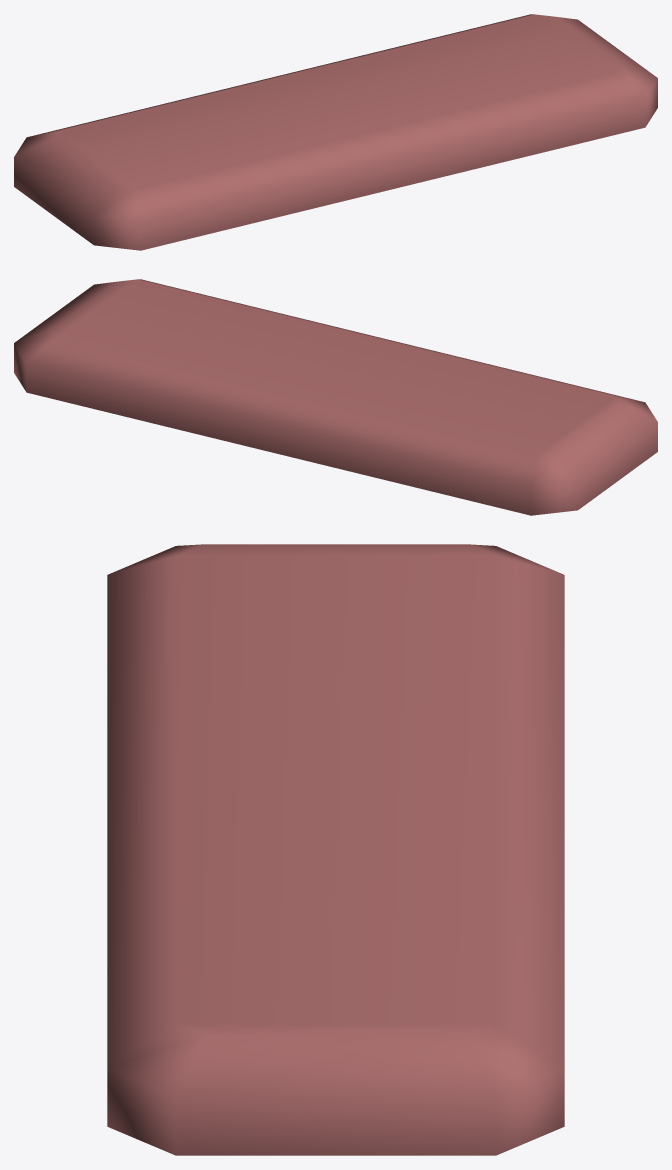
Rendered from AIboard.fbx.
The picture shows the model from 3 angles, top to bottom: view 1: azimuth 30°, elevation 25°; view 2: azimuth 150°, elevation 25°; view 3: azimuth 270°, elevation 25°; orthographic projection. The views are drawn at different scales.
Visible parts, largest first — view 1: AIboard; view 2: AIboard; view 3: AIboard.
Part boxes in pixels (x1,y1,x2,y2): AIboard: (14,14,657,250); AIboard: (14,279,657,515); AIboard: (107,544,564,1155).
Size of the model in its own units: 7.5 by 0.5739 by 2.63.
